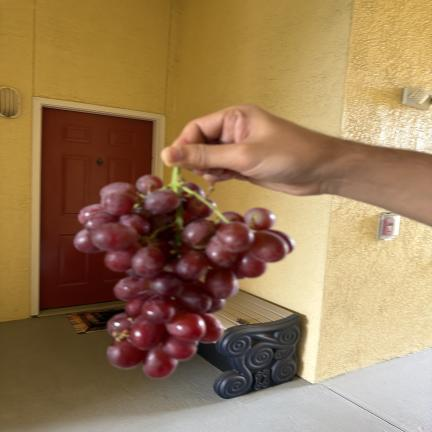grape_cluster: (73, 168, 295, 378)
